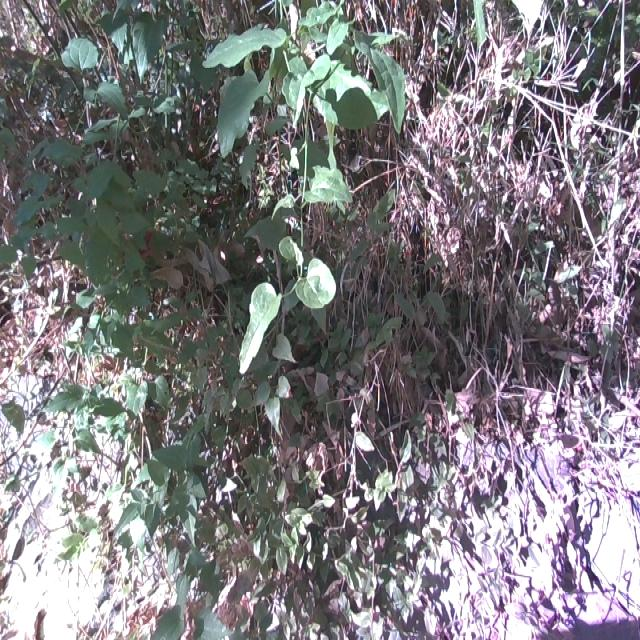bush: (3, 0, 372, 488)
